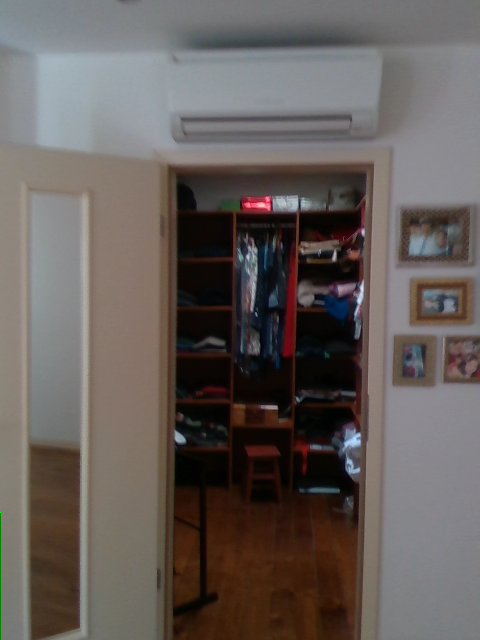open: (0, 140, 398, 639)
